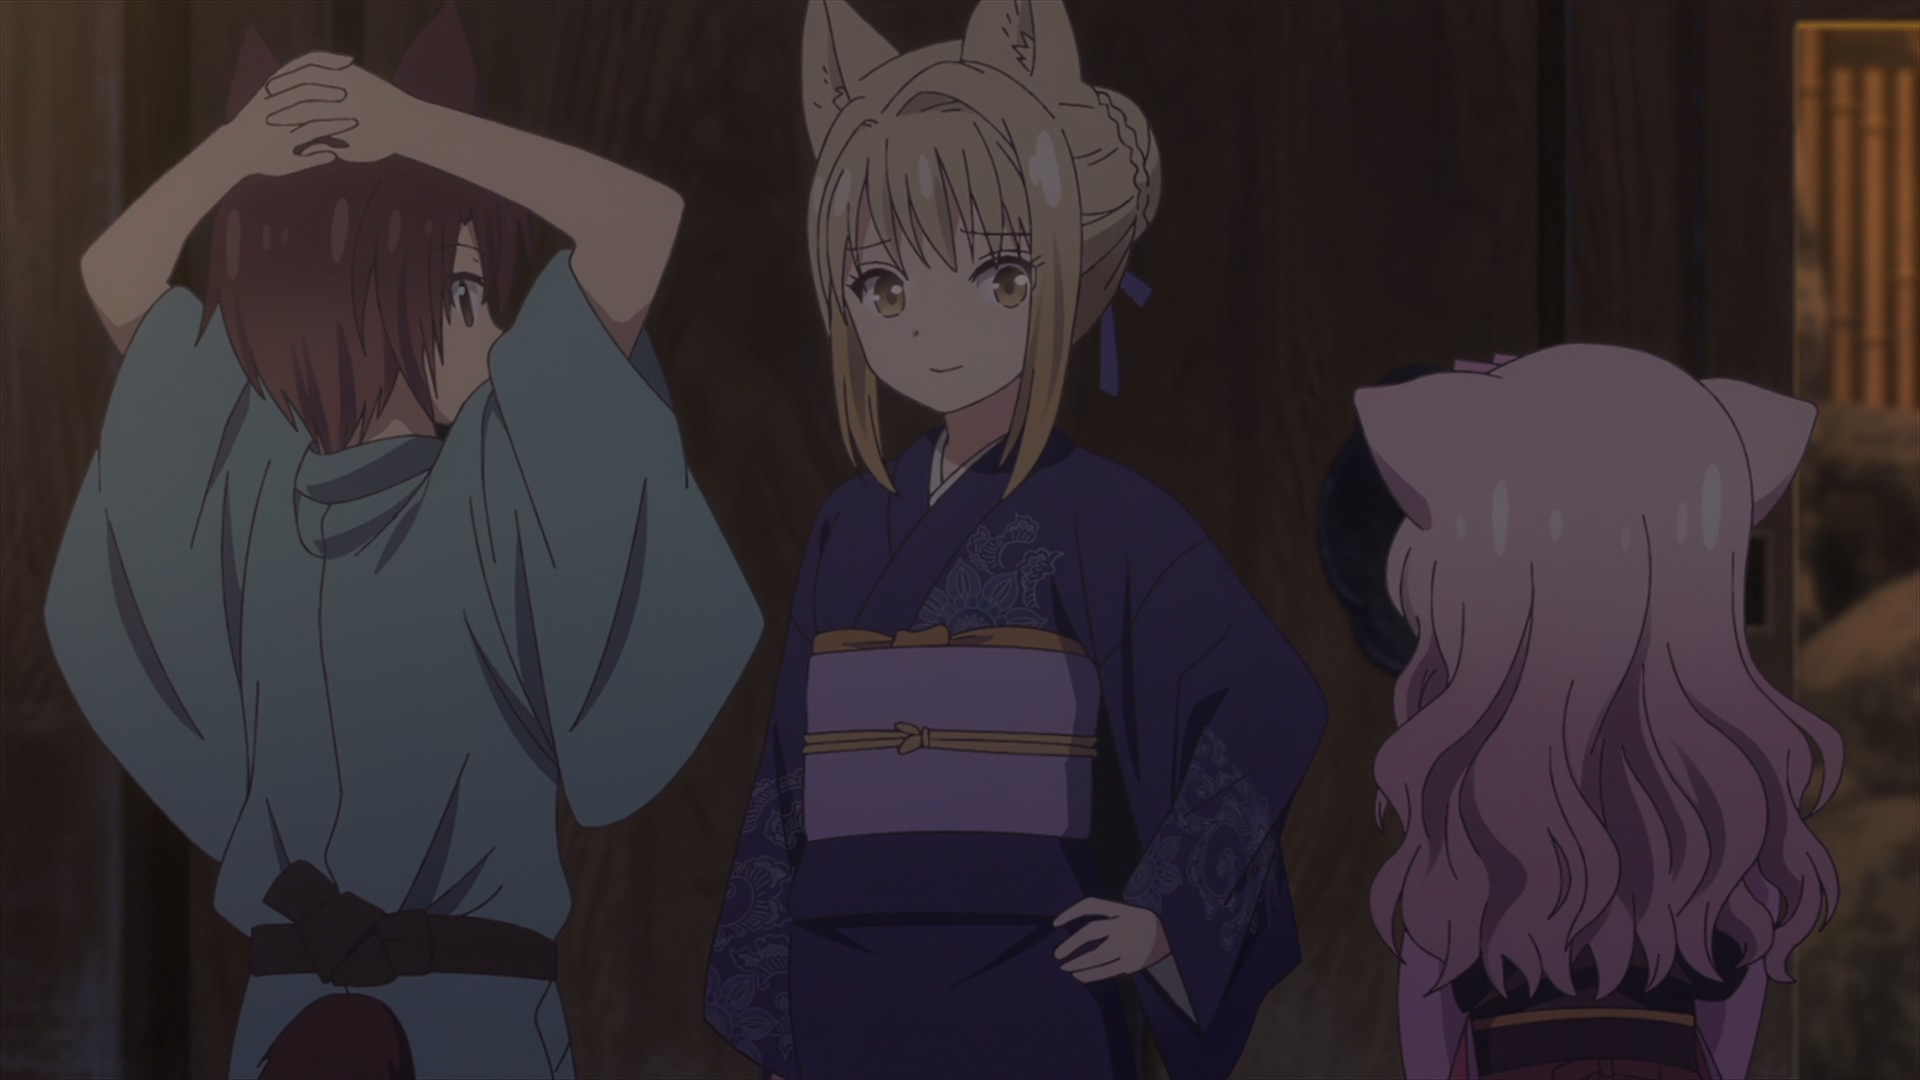枣: (44, 1, 765, 1080)
桐: (709, 1, 1328, 1080)
莲: (1353, 344, 1844, 1080)
